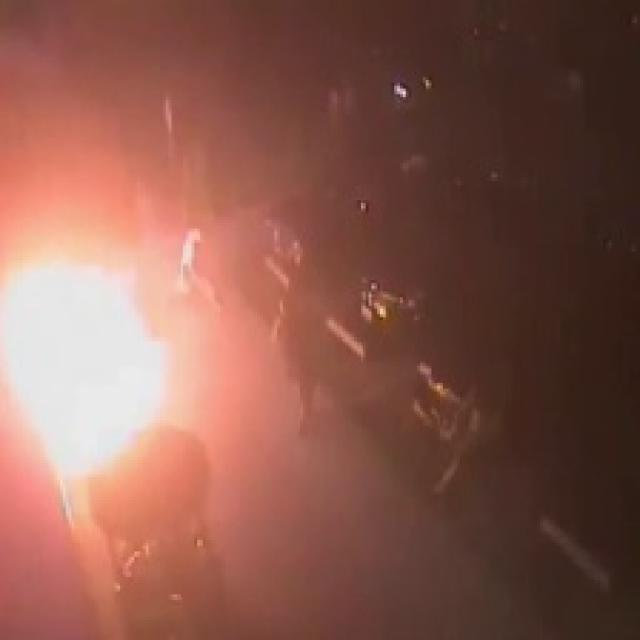fire: (1, 269, 178, 446)
